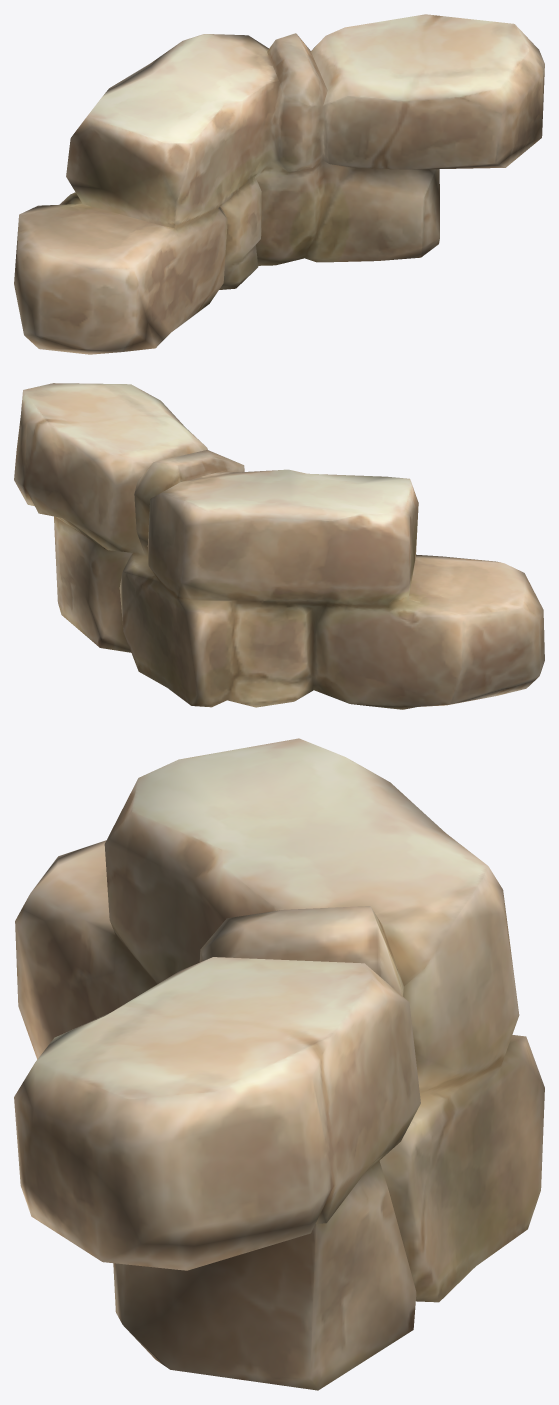
Rendered from mesh_StoneWall_Inner_1_Half.fbx.
The picture shows the model from 3 angles, top to bottom: view 1: azimuth 30°, elevation 25°; view 2: azimuth 150°, elevation 25°; view 3: azimuth 270°, elevation 25°; orthographic projection. The views are drawn at different scales.
Visible parts, largest first — view 1: StoneWall_Inner_1_Half_LOD0; view 2: StoneWall_Inner_1_Half_LOD0; view 3: StoneWall_Inner_1_Half_LOD0.
Part boxes in pixels (<box>): StoneWall_Inner_1_Half_LOD0: <box>14,14,544,354</box>; StoneWall_Inner_1_Half_LOD0: <box>14,383,544,709</box>; StoneWall_Inner_1_Half_LOD0: <box>14,738,544,1390</box>.
Size of what is drawn, in the model's own units: 9.39 by 3.51 by 4.4.
1 material, 1 textured.
